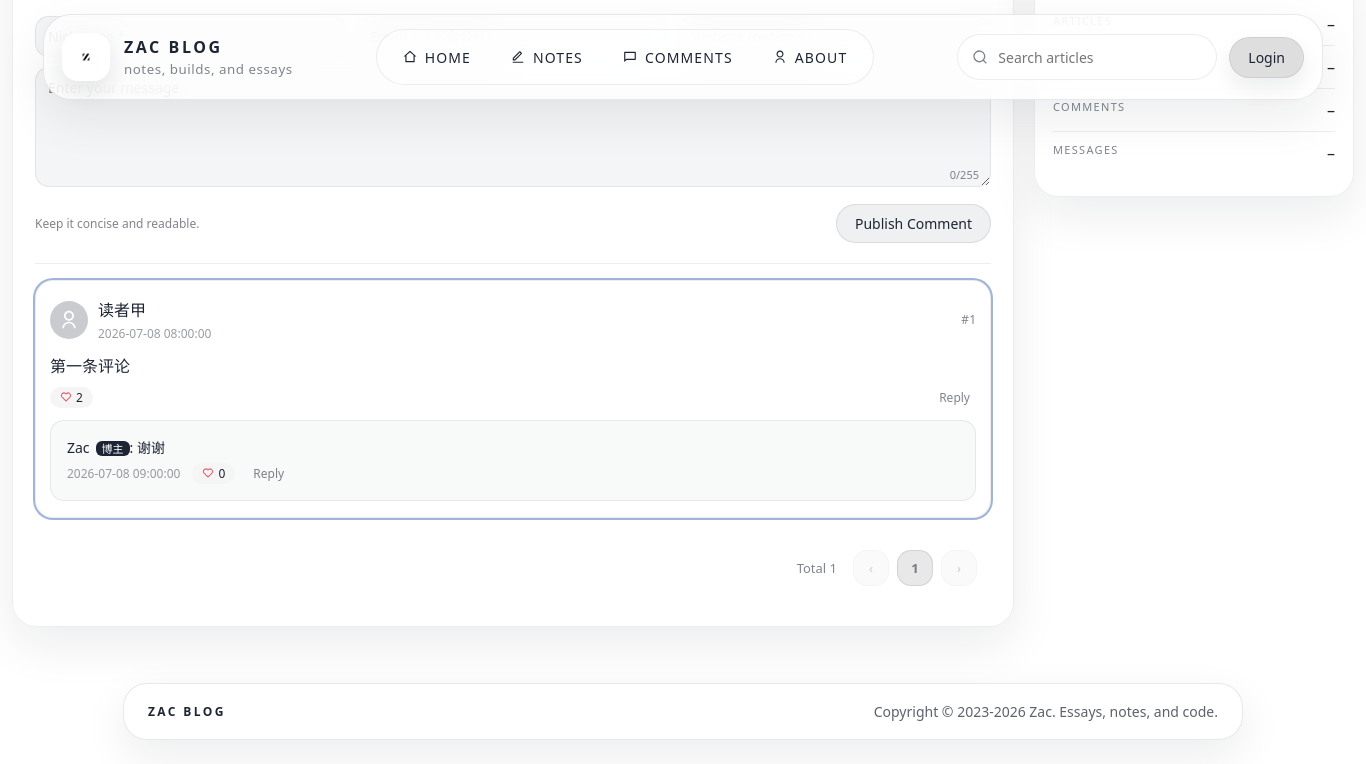
Test case: PostPage › shows floors, replies and likes in the comment section
This screenshot has width=1366, height=764.
(page scrolled)
Check: the text "第一条评论" is shown, box x1=50 y1=355 x2=130 y2=377
Check: the text "#1" is shown, box x1=961 y1=311 x2=976 y2=328
Click the button named "点赞". click: point(71, 397)
box: x1=50 y1=387 x2=93 y2=408
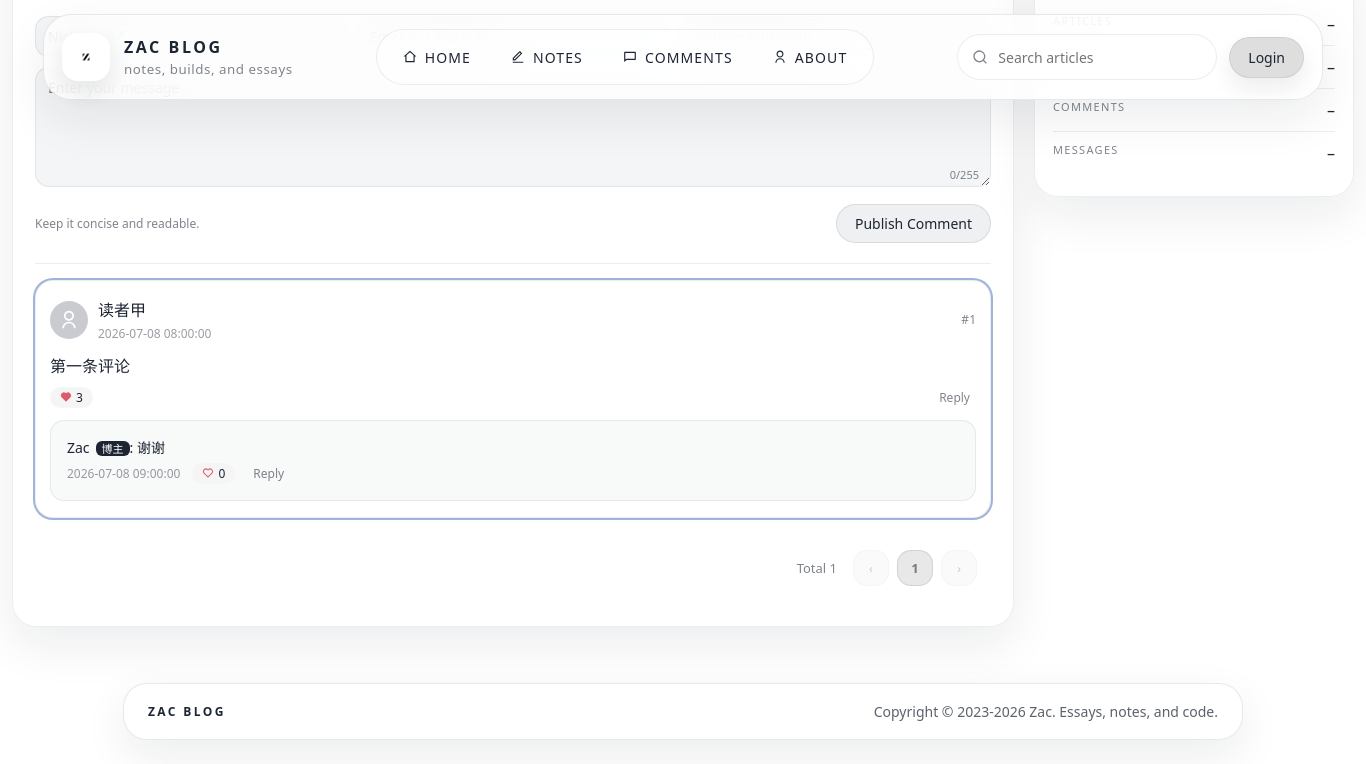
Check: the button named "点赞" reads "3", box x1=50 y1=387 x2=93 y2=408
Click the 1st button "Reply". click: point(955, 397)
box: x1=933 y1=388 x2=976 y2=407
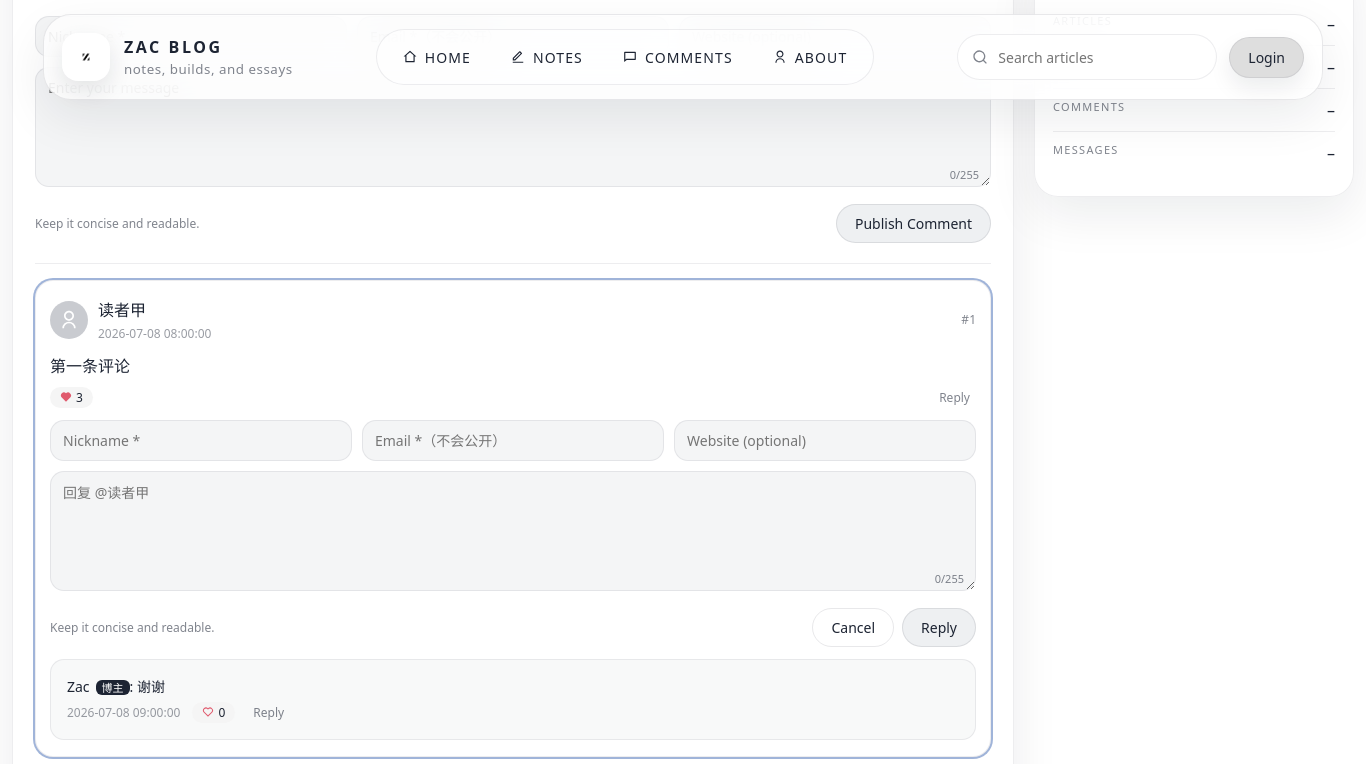
Check: the text box with placeholder "回复 @读者甲" is shown, box x1=50 y1=471 x2=976 y2=591
